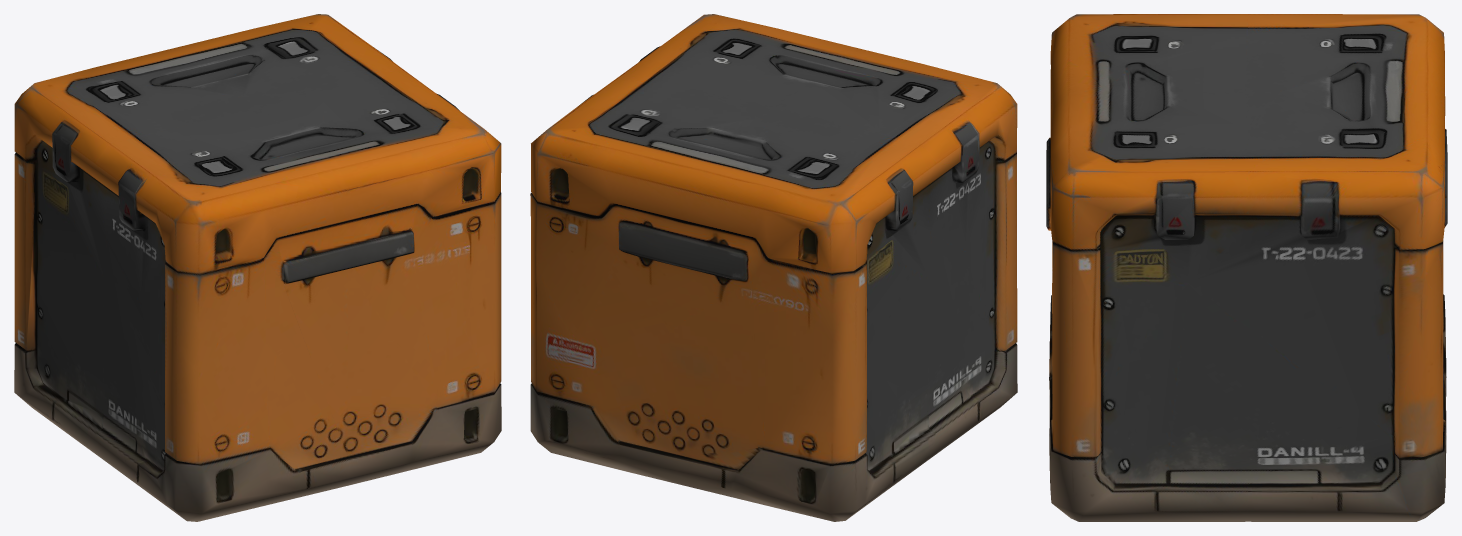
The picture shows the model from 3 angles, left to right: view 1: azimuth 30°, elevation 25°; view 2: azimuth 150°, elevation 25°; view 3: azimuth 270°, elevation 25°; orthographic projection. The views are drawn at different scales.
Parts seen in each view (by area): view 1: tripo_node_1ba10b88; view 2: tripo_node_1ba10b88; view 3: tripo_node_1ba10b88.
Part boxes in pixels (left/top/right/bottom): tripo_node_1ba10b88: left=14, top=14, right=501, bottom=521; tripo_node_1ba10b88: left=530, top=14, right=1017, bottom=521; tripo_node_1ba10b88: left=1046, top=14, right=1447, bottom=521.
Bounding box in the file's own units: 1 × 0.9327 × 0.9694.
Materials: 1 (1 with a texture image).
